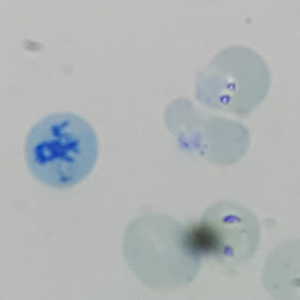aggregate reticulocyte: (21, 111, 102, 190)
erythrocyte: (119, 210, 203, 293), (161, 95, 252, 166), (192, 43, 273, 118), (197, 199, 263, 273)
